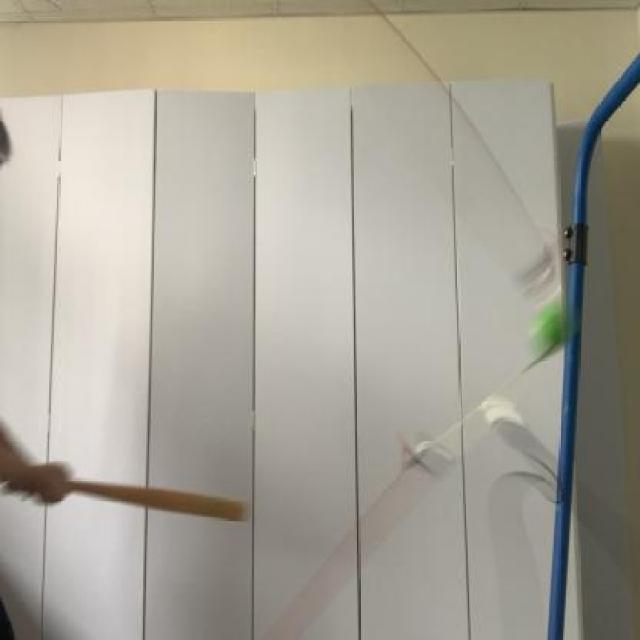baseball: (515, 294, 576, 364)
